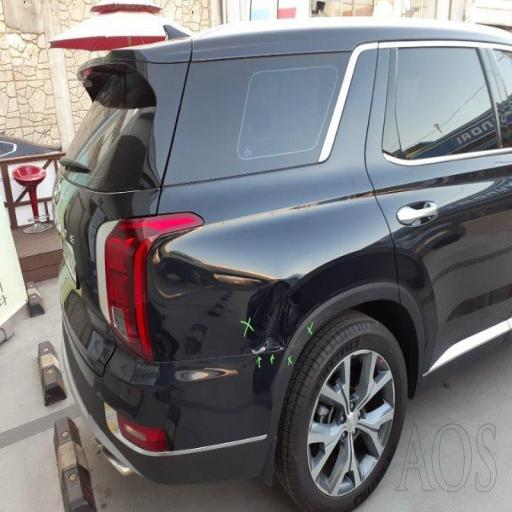dent: (145, 244, 216, 309), (242, 276, 310, 338)
scratch: (234, 336, 314, 378)
